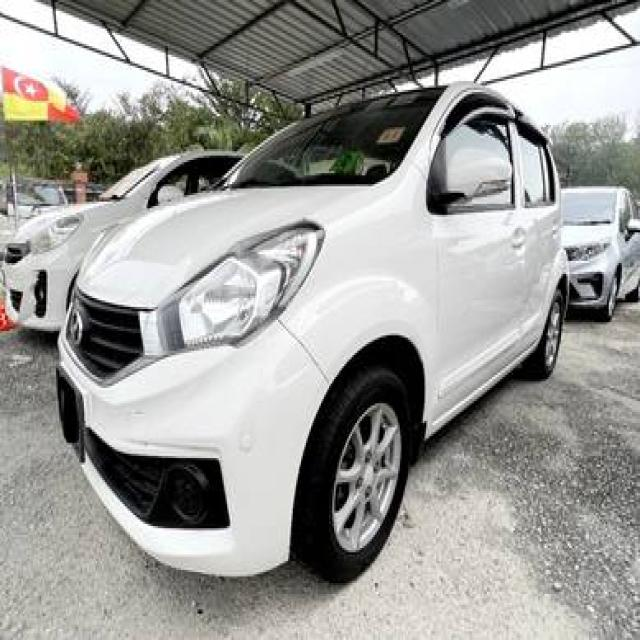PeroduaMyvi: (53, 79, 571, 585)
